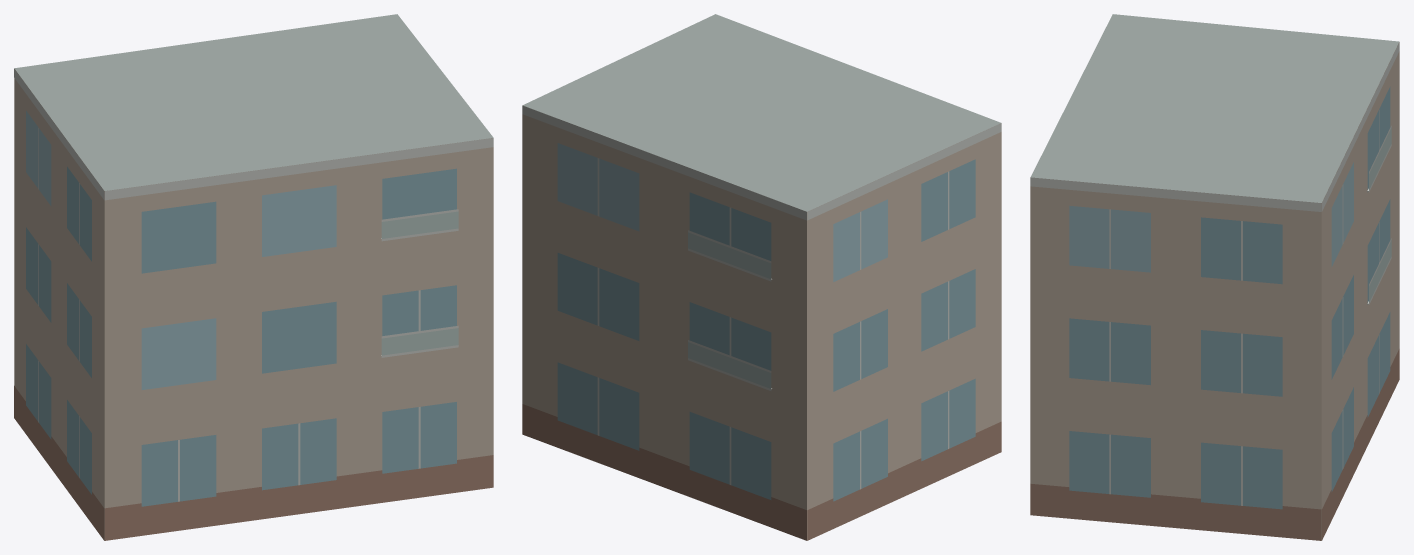
Rendered from survey-upis-32914039.glb.
The picture shows the model from 3 angles, left to right: view 1: azimuth 30°, elevation 25°; view 2: azimuth 150°, elevation 25°; view 3: azimuth 270°, elevation 25°; orthographic projection. The views are drawn at different scales.
Visible parts, largest first — view 1: survey-upis-32914039.tmp; view 2: survey-upis-32914039.tmp; view 3: survey-upis-32914039.tmp.
Boxes of the visible parts, bbox=[...] form: survey-upis-32914039.tmp: bbox=[14, 14, 493, 540]; survey-upis-32914039.tmp: bbox=[522, 14, 1001, 540]; survey-upis-32914039.tmp: bbox=[1030, 14, 1399, 540].
Size of the model in its own units: 11 by 9.15 by 9.07.
